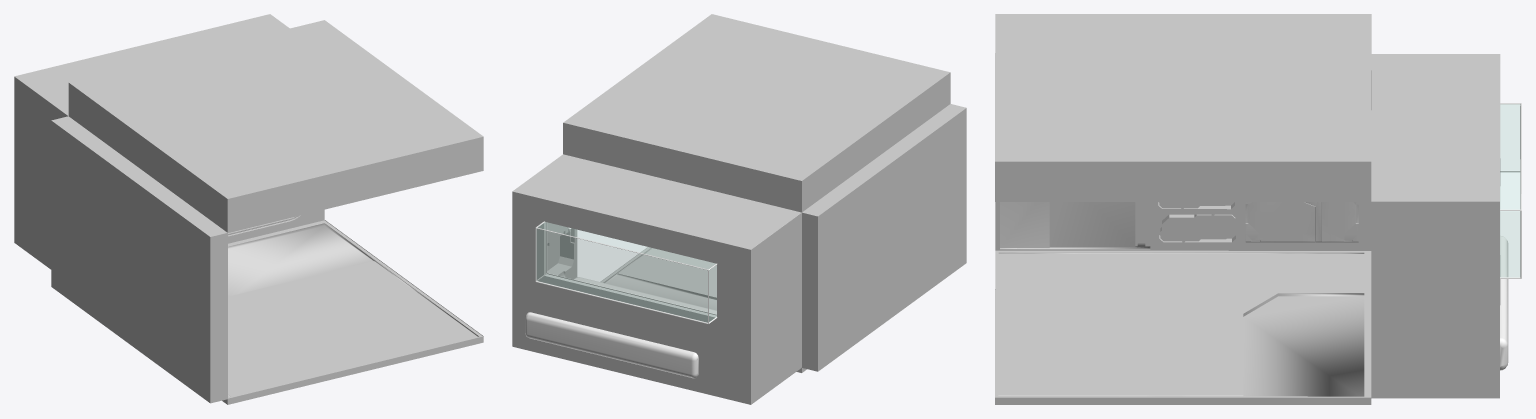
The model's file is sci-fi_interior_room.glb.
3 views of the same model, side by side, from view 1: azimuth 30°, elevation 25°; view 2: azimuth 150°, elevation 25°; view 3: azimuth 270°, elevation 25° (orthographic). The views are drawn at different scales.
Parts seen in each view (by area): view 1: Ceiling, Wall, Floor; view 2: Wall, Ceiling, Window, Bed.frozen, Floor; view 3: Ceiling, Wall, Floor, Window, Bed.frozen.
Boxes of the visible parts, bbox=[...] form: Ceiling: bbox=[68, 20, 483, 232]; Wall: bbox=[14, 14, 324, 403]; Floor: bbox=[222, 220, 483, 404]; Wall: bbox=[512, 104, 966, 404]; Ceiling: bbox=[563, 14, 950, 212]; Window: bbox=[535, 221, 717, 324]; Bed.frozen: bbox=[525, 277, 716, 378]; Floor: bbox=[600, 247, 806, 372]; Ceiling: bbox=[995, 14, 1371, 201]; Wall: bbox=[995, 54, 1500, 398]; Floor: bbox=[995, 250, 1371, 404]; Window: bbox=[1500, 103, 1521, 278]; Bed.frozen: bbox=[1500, 236, 1508, 370].
Bounding box in the file's own units: 4.08 × 2.94 × 5.76.
